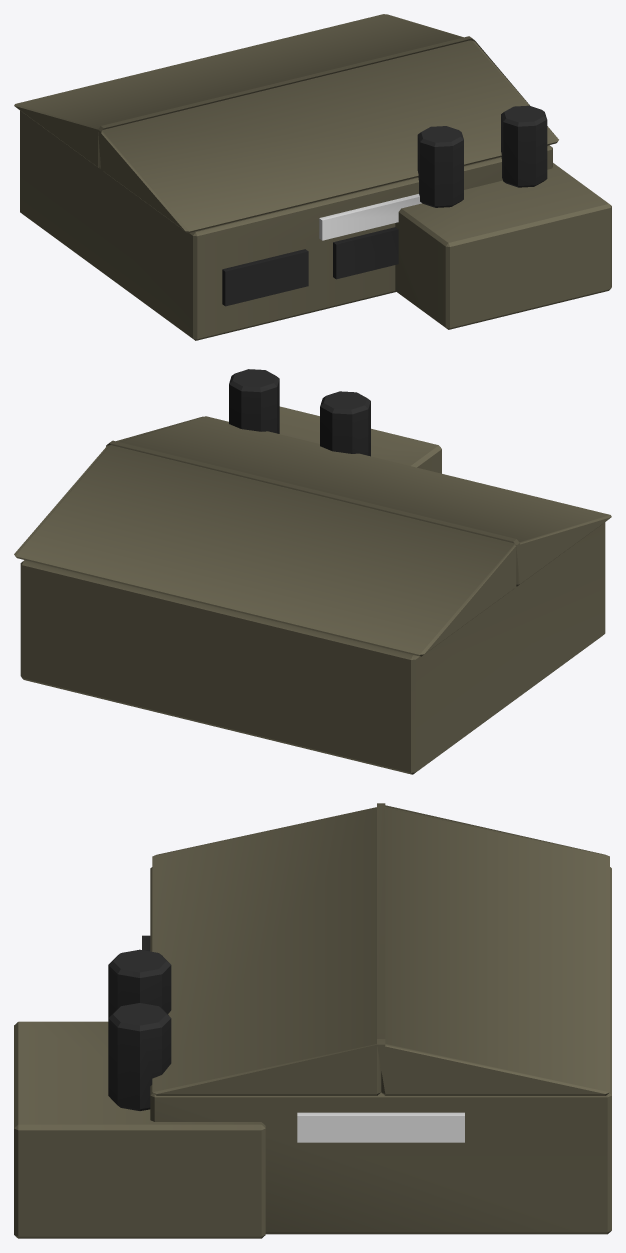
File: ru-power-plant.glb
3 renders of one model, top to bottom at view 1: azimuth 30°, elevation 25°; view 2: azimuth 150°, elevation 25°; view 3: azimuth 270°, elevation 25°, orthographic. The views are drawn at different scales.
Parts seen in each view (by area): view 1: ru-power-plant; view 2: ru-power-plant; view 3: ru-power-plant.
Boxes of the visible parts, x1,y1,x2,y2 form: ru-power-plant: (14,14,611,340); ru-power-plant: (14,369,611,774); ru-power-plant: (14,803,611,1238).
Size of the model in its own units: 2.7 by 1.05 by 2.85.
